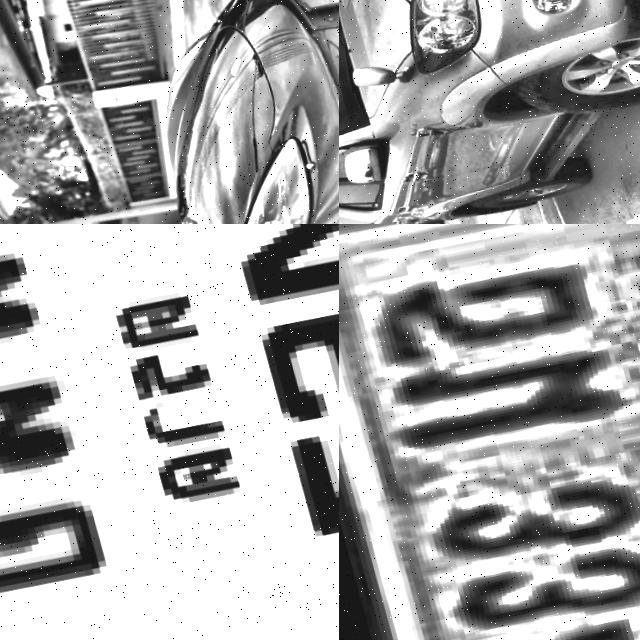license-plate: (0, 224, 339, 640), (339, 224, 640, 640), (267, 0, 339, 22)
